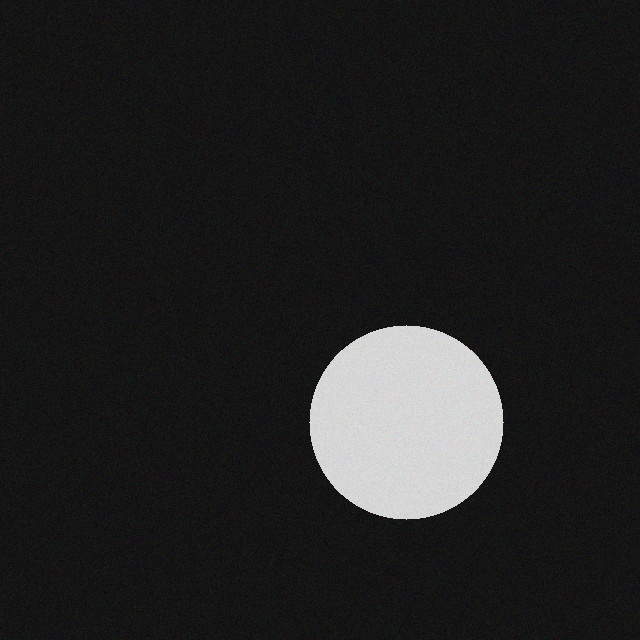circle: (322, 331, 516, 525)
